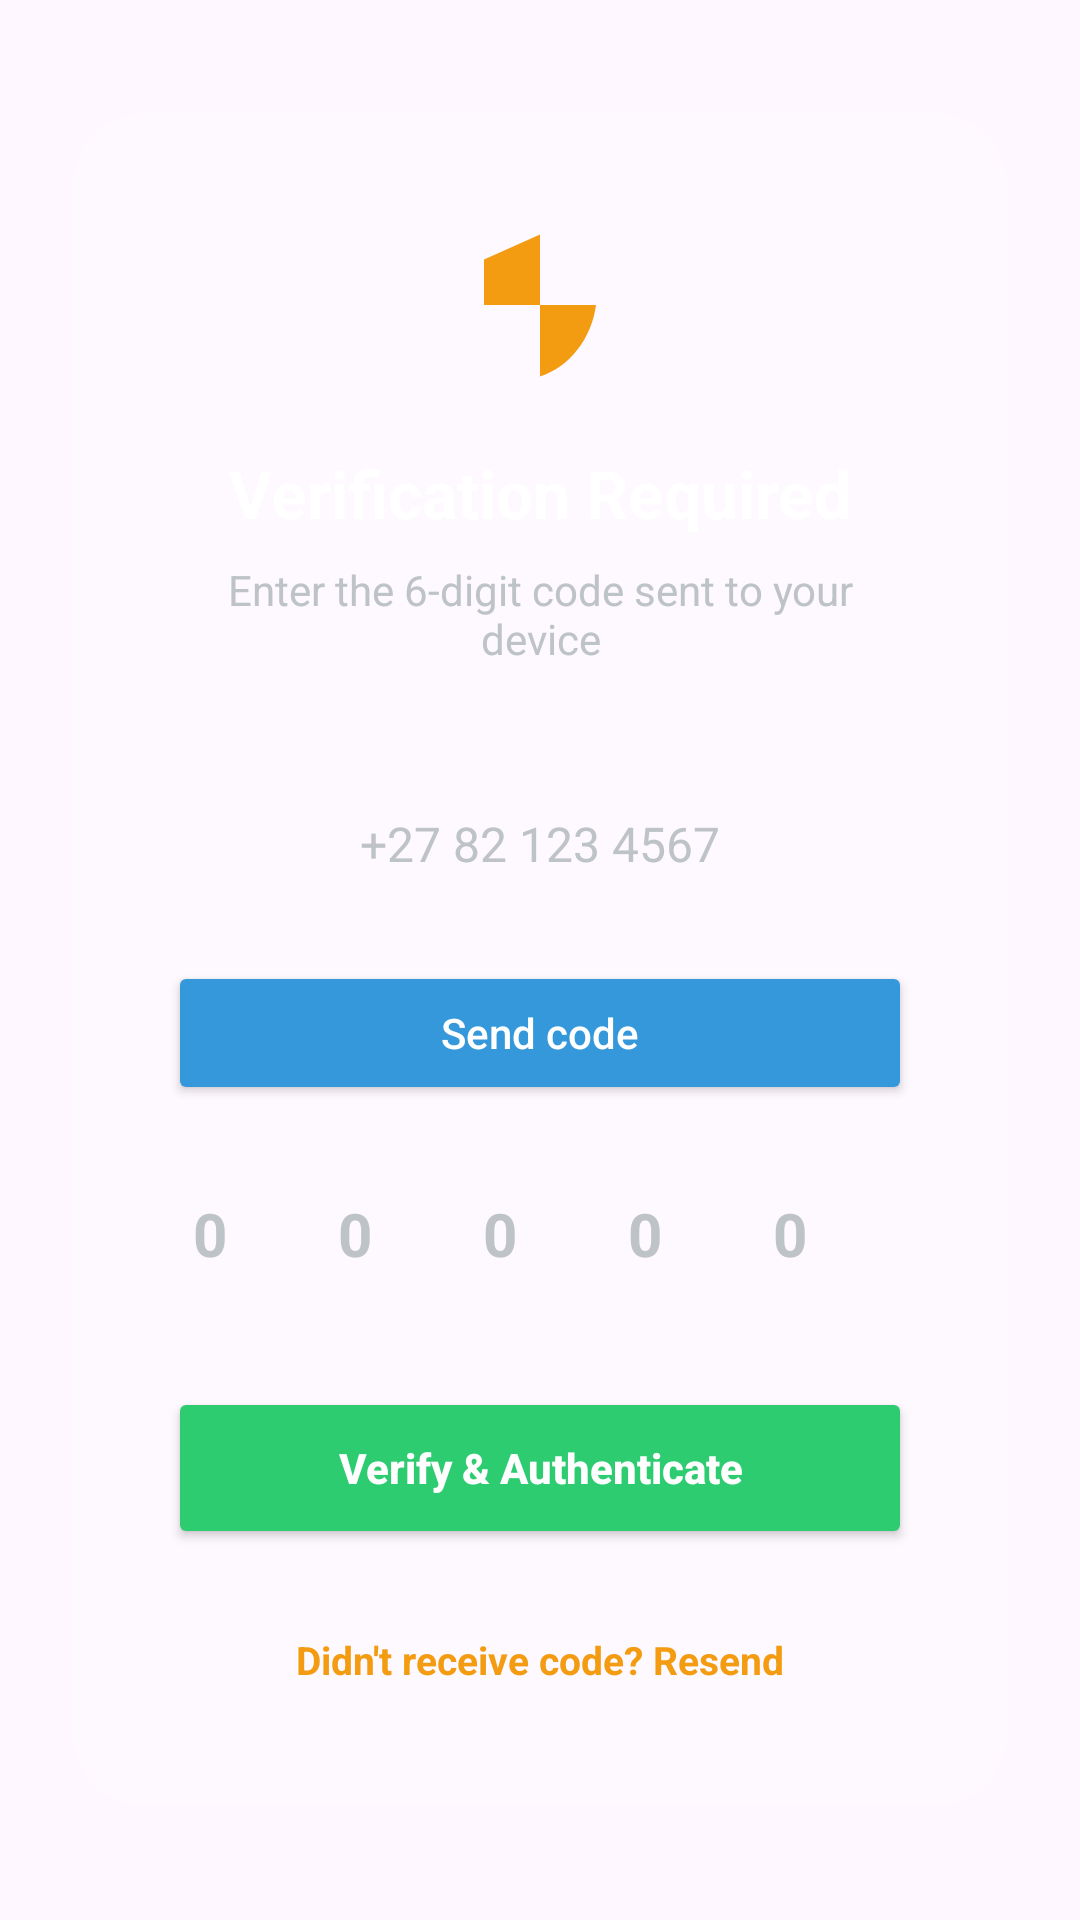

Icons on this 1080w x 1920h Android screen, each with its box as (x1, y1, x2, y2):
security: (484, 234, 596, 377)
